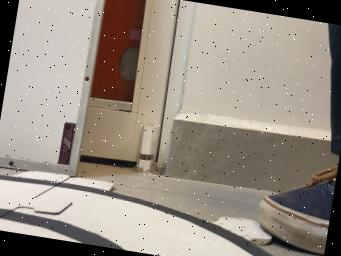street: (0, 175, 271, 256), (0, 175, 271, 256), (0, 175, 271, 256)
